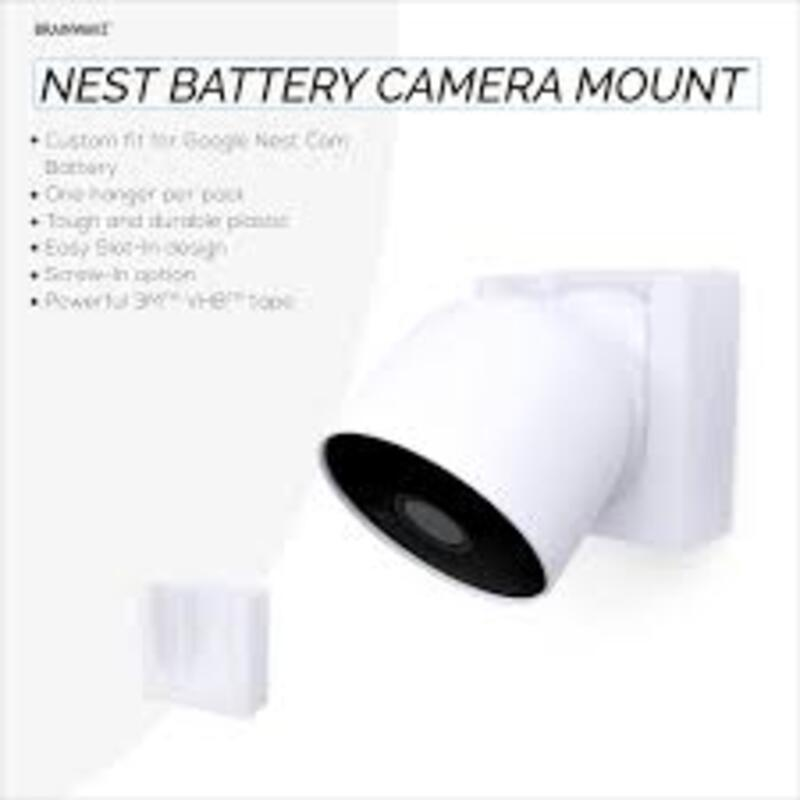nest: (326, 309, 647, 600)
